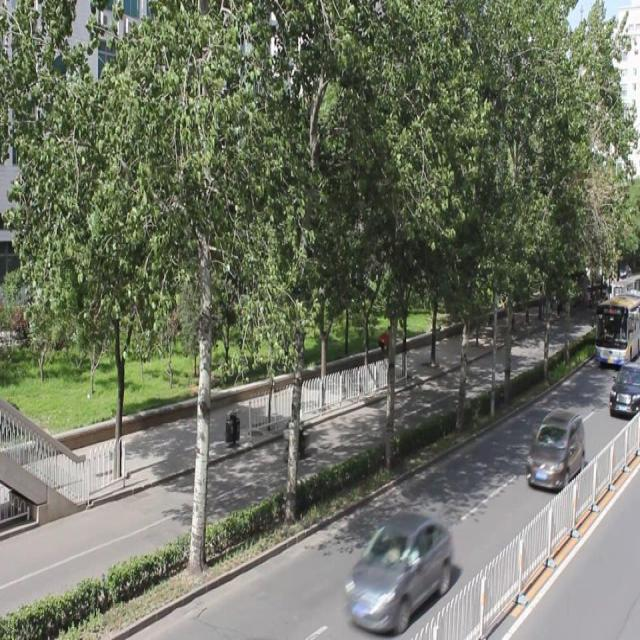car: (344, 508, 450, 624), (525, 406, 584, 490), (607, 362, 640, 417)
